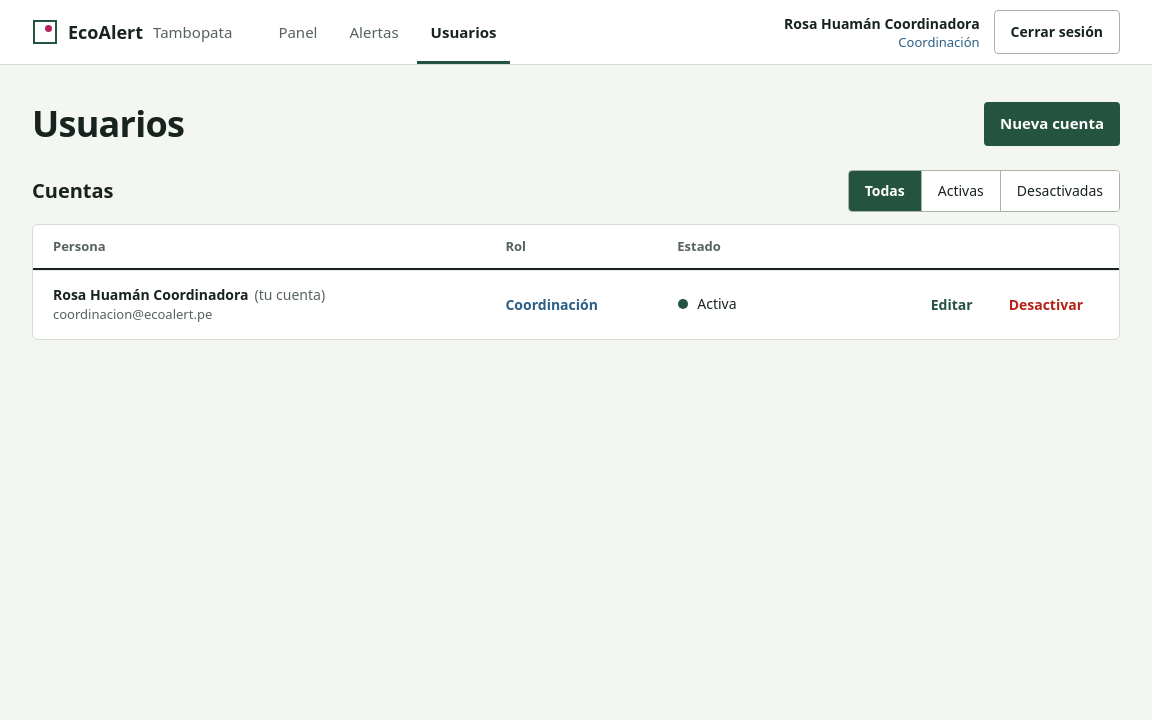
Scenario: UsuariosPage (RF-02) › muestra el error del servidor al desactivar la última coordinación (RF-02-AC-8)
Expected: the text "coordinacion@ecoalert.pe" is shown, [53,305,212,323]
Click the button with aria-label "Desactivar coordinacion@ecoalert.pe" at (1046, 305), box [993,283,1099,327]
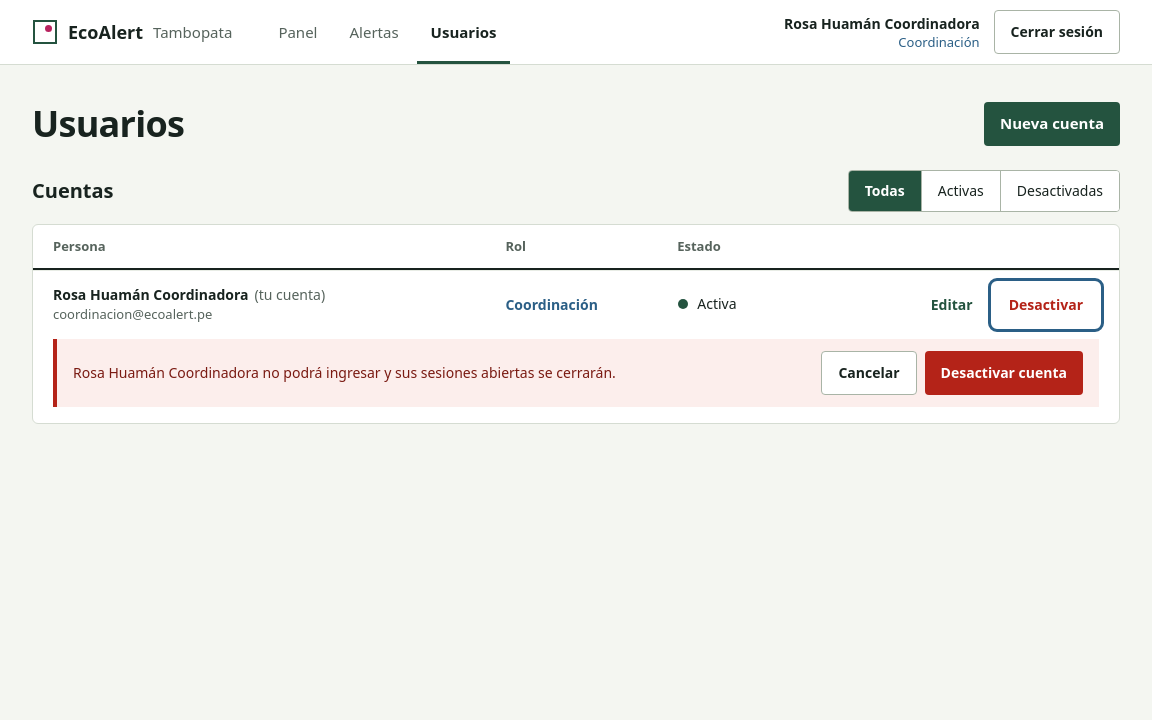
Click the button with aria-label "Desactivar cuenta de coordinacion@ecoalert.pe" at (1004, 373), box [925,351,1083,395]
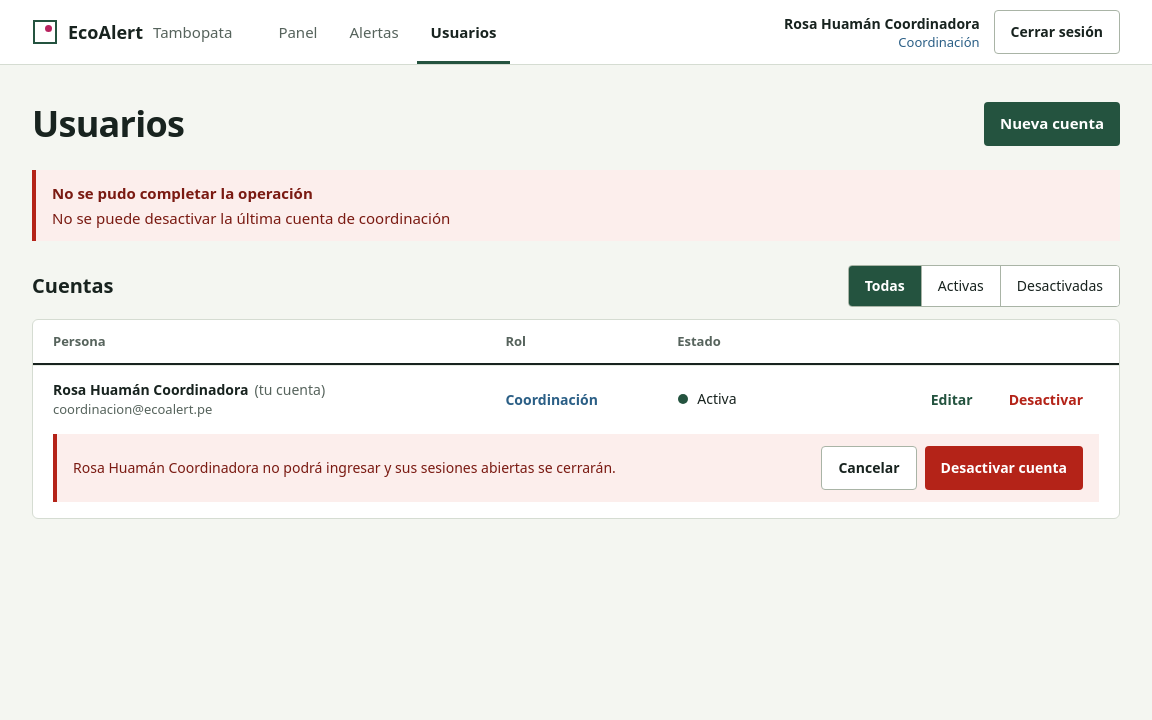
Result: the message shows "No se puede desactivar la última cuenta de coordinación" at [52,208,450,228]
